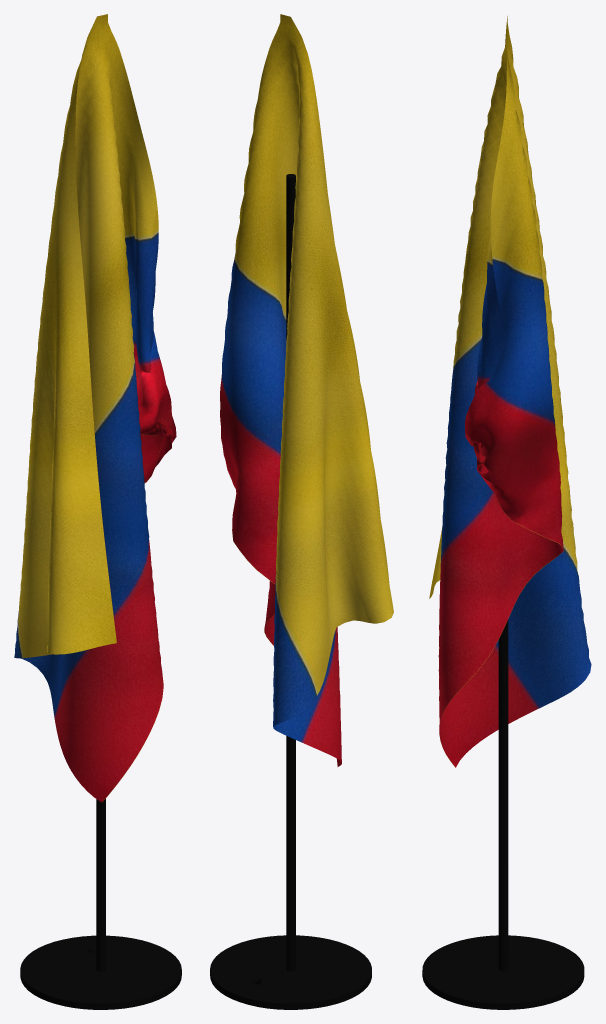
Rendered from BanderaColombia.fbx.
3 views of the same model, side by side, from view 1: azimuth 30°, elevation 25°; view 2: azimuth 150°, elevation 25°; view 3: azimuth 270°, elevation 25° (orthographic).
Visible parts, largest first — view 1: Flag_01; view 2: Flag_01; view 3: Flag_01.
Part boxes in pixels (x1,y1,x2,y2): Flag_01: (14,14,181,1009); Flag_01: (210,14,393,1009); Flag_01: (422,16,591,1009).
Size of the model in its own units: 32.85 by 205 by 32.7.
Materials: 2 (1 with a texture image).
